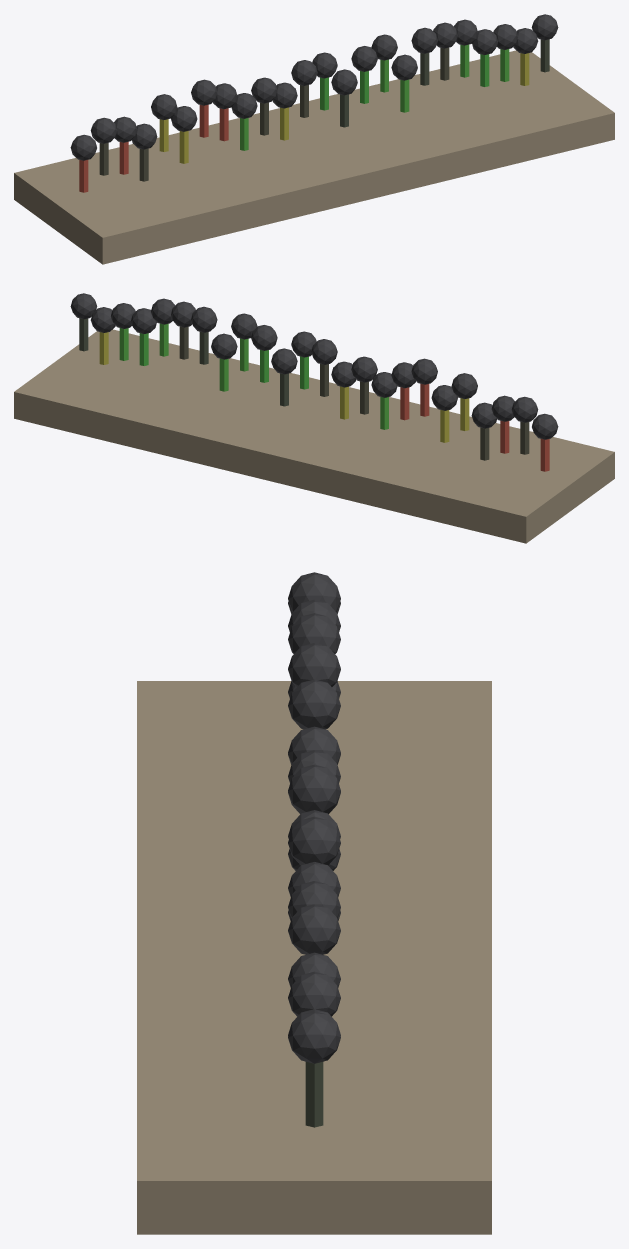
The model's file is crowd_billboard_segment.glb.
3 renders of one model, top to bottom at view 1: azimuth 30°, elevation 25°; view 2: azimuth 150°, elevation 25°; view 3: azimuth 270°, elevation 25°, orthographic. The views are drawn at different scales.
Visible parts, largest first — view 1: world; view 2: world; view 3: world.
Boxes of the visible parts, x1,y1,x2,y2 form: world: [14, 14, 614, 264]; world: [14, 293, 614, 543]; world: [137, 572, 491, 1234].
Size of the model in its own units: 4 by 0.8741 by 1.2.
